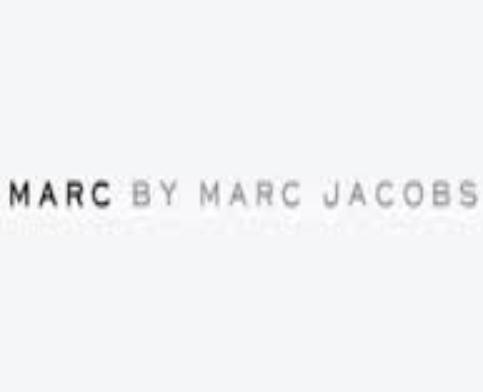MARC-JACOBS: (1, 169, 482, 234)
